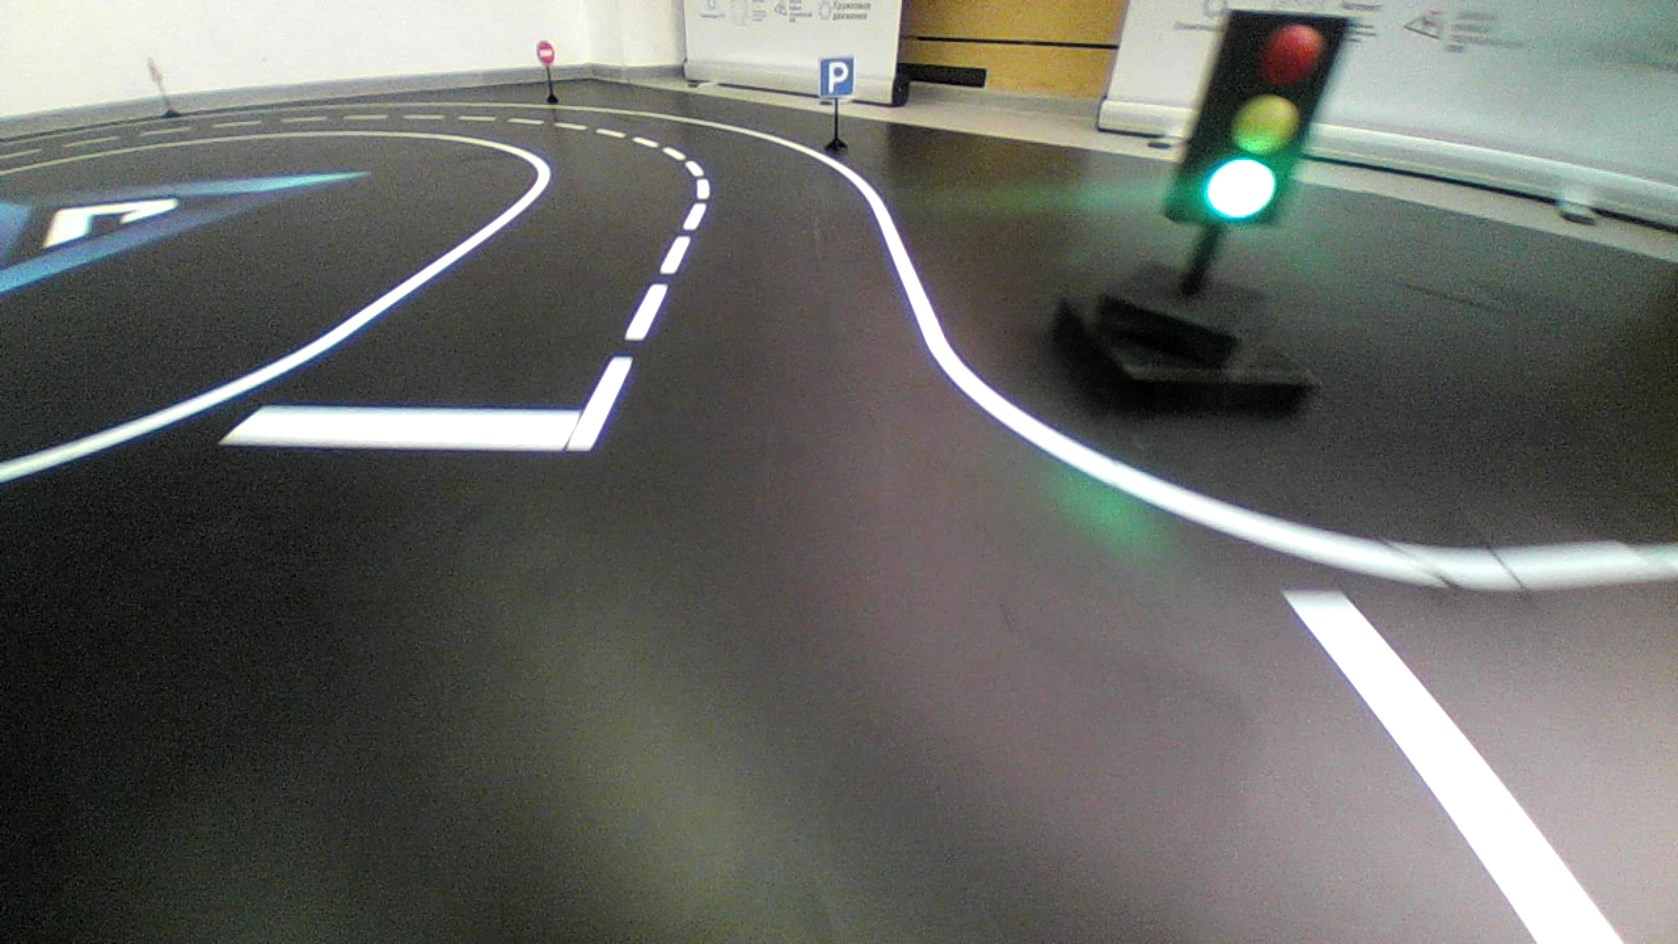trafficlight: (1161, 8, 1351, 228)
